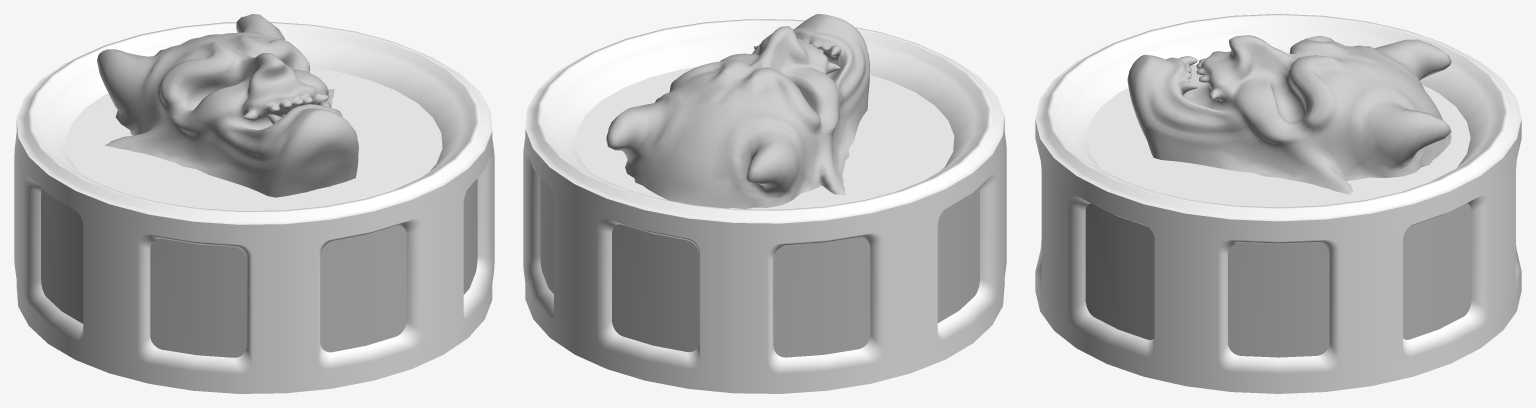
Rendered from main.fbx.
3 renders of one model, left to right at view 1: azimuth 30°, elevation 25°; view 2: azimuth 150°, elevation 25°; view 3: azimuth 270°, elevation 25°, orthographic.
Parts seen in each view (by area): view 1: Checers1_Low, Checers2_low; view 2: Checers1_Low, Checers2_low; view 3: Checers1_Low, Checers2_low.
Boxes of the visible parts, left/top/right/bottom form: Checers1_Low: left=14, top=22, right=494, bottom=393; Checers2_low: left=41, top=14, right=477, bottom=357; Checers1_Low: left=523, top=19, right=1006, bottom=393; Checers2_low: left=540, top=14, right=979, bottom=357; Checers1_Low: left=1035, top=14, right=1521, bottom=393; Checers2_low: left=1085, top=35, right=1471, bottom=357.
Bounding box in the file's own units: 138 × 80.04 × 138.
